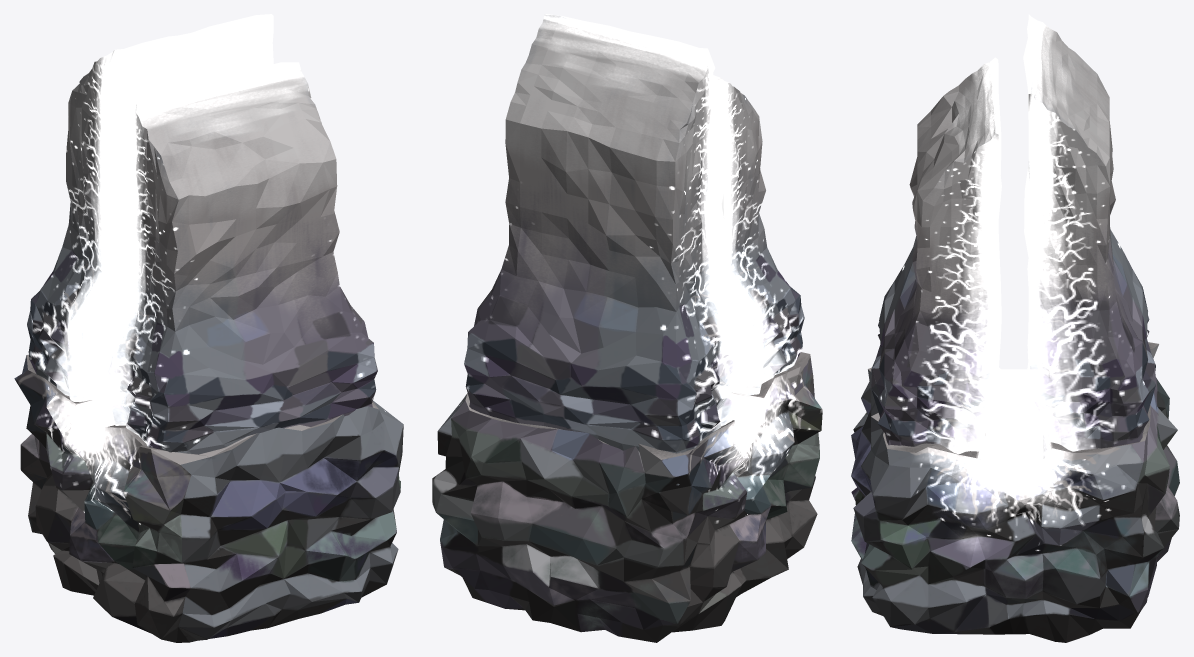
The model's file is SM_Beacon.FBX.
The picture shows the model from 3 angles, left to right: view 1: azimuth 30°, elevation 25°; view 2: azimuth 150°, elevation 25°; view 3: azimuth 270°, elevation 25°; orthographic projection. The views are drawn at different scales.
Visible parts, largest first — view 1: Beacon; view 2: Beacon; view 3: Beacon.
Part boxes in pixels (x1,y1,x2,y2): Beacon: [14, 14, 403, 642]; Beacon: [432, 14, 822, 642]; Beacon: [851, 14, 1179, 642].
Bounding box in the file's own units: 73.03 × 135 × 76.22.
